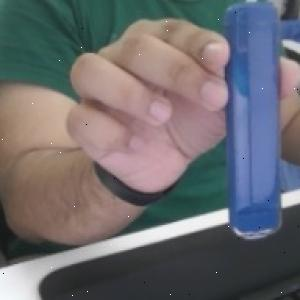Diamond-E-Ciggirate: (217, 0, 288, 239)
